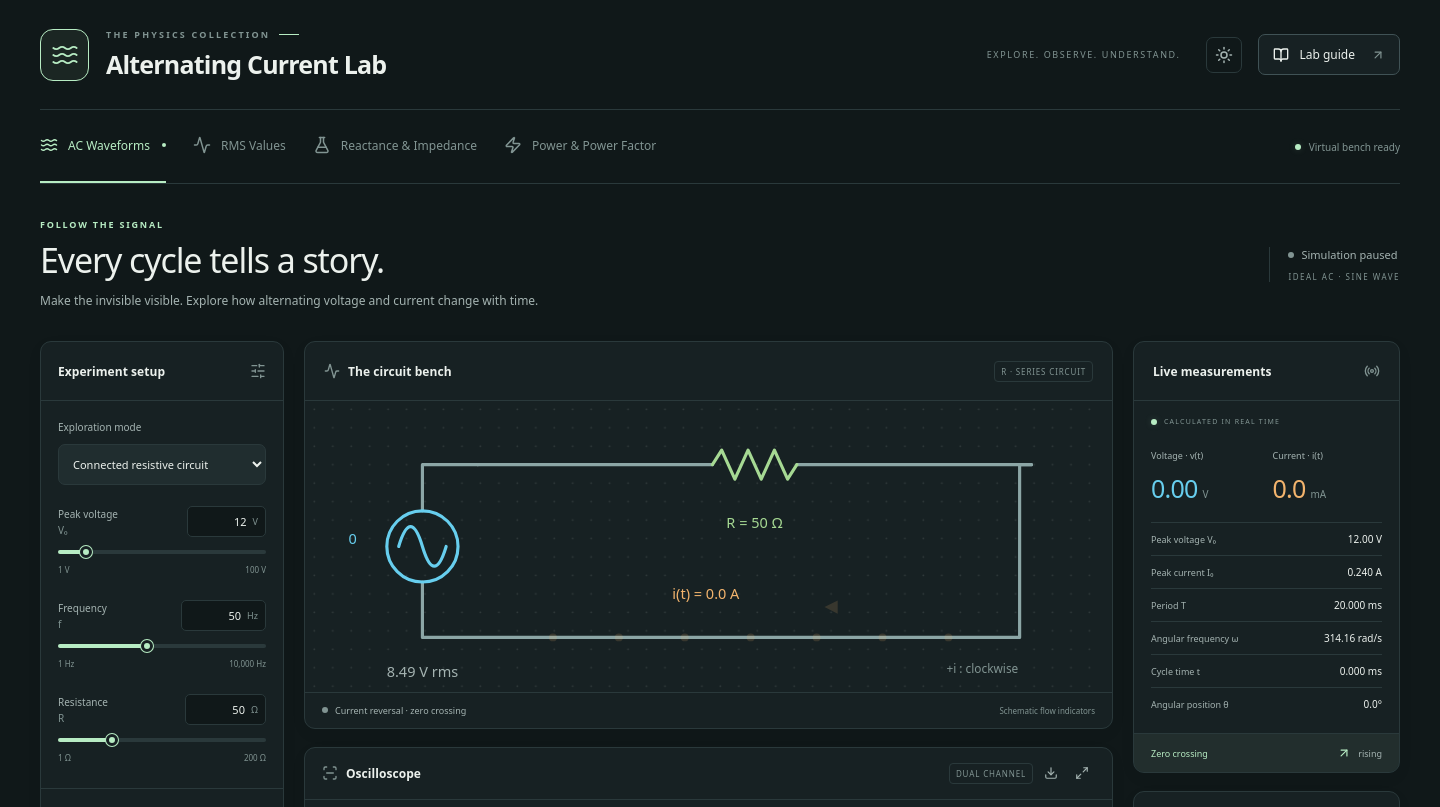
Connected laboratory controls › toggles theme and offers a genuine independent-signal mode
Click the button named "Switch to light theme".
click(1224, 54)  # box [1206,36,1242,72]
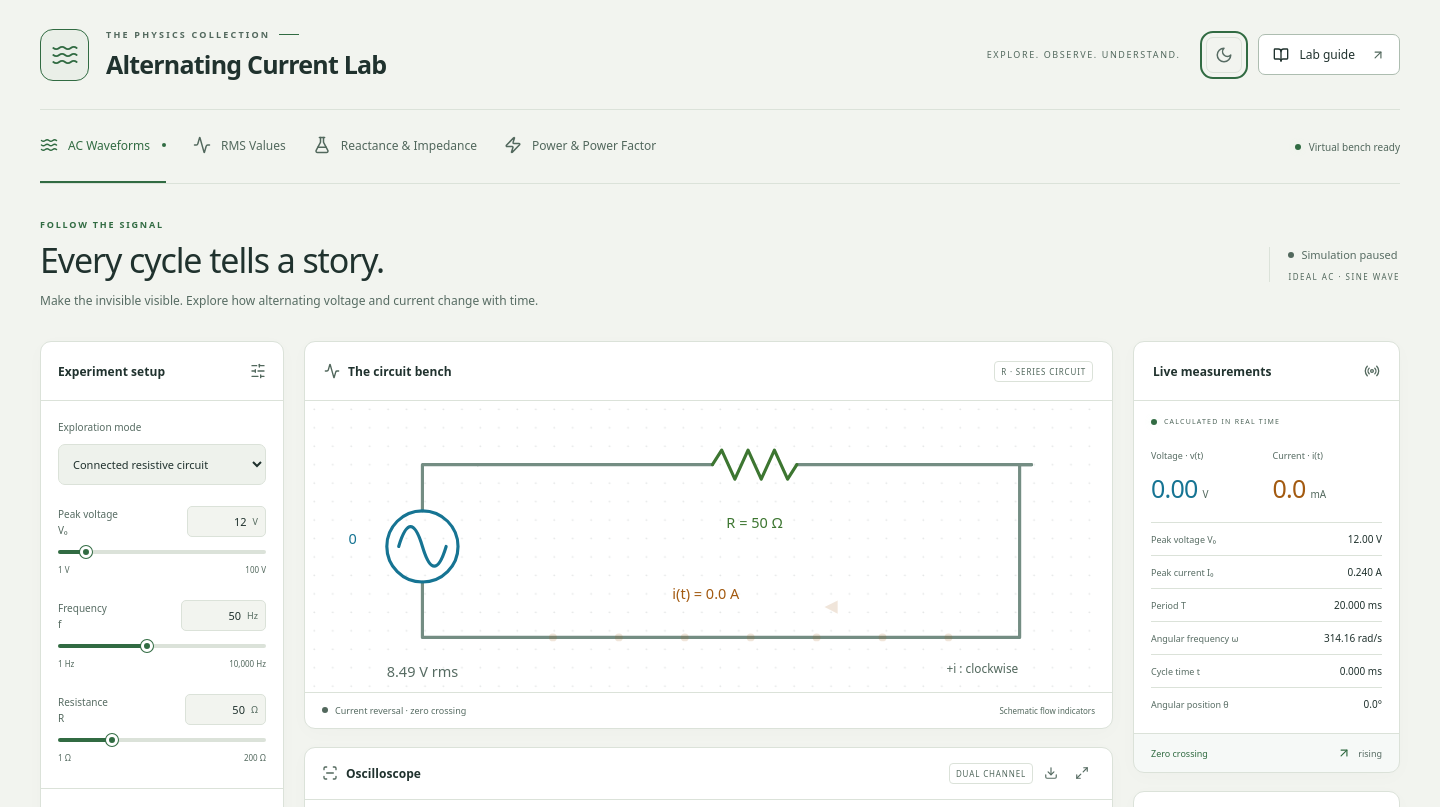
Select "Independent signals" in the dropdown labelled "Exploration mode" at {"x": 162, "y": 465}, box [58,444,266,485]
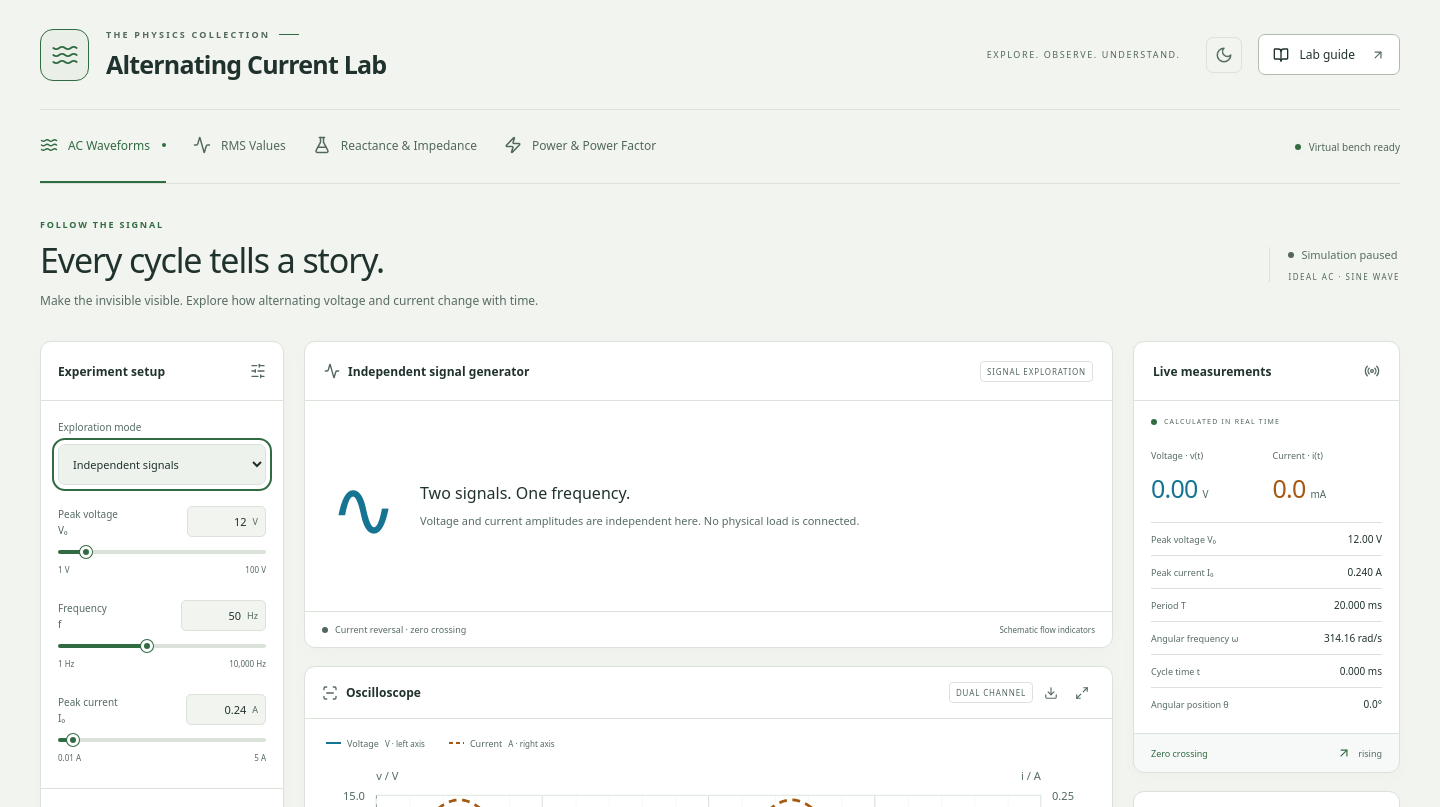
Expected: the number field labelled "Peak current" is shown, [194,701,248,718]
Expected: the label "Resistance" is gone
Expected: the text "No physical load is connected" is shown, [420,513,859,528]
